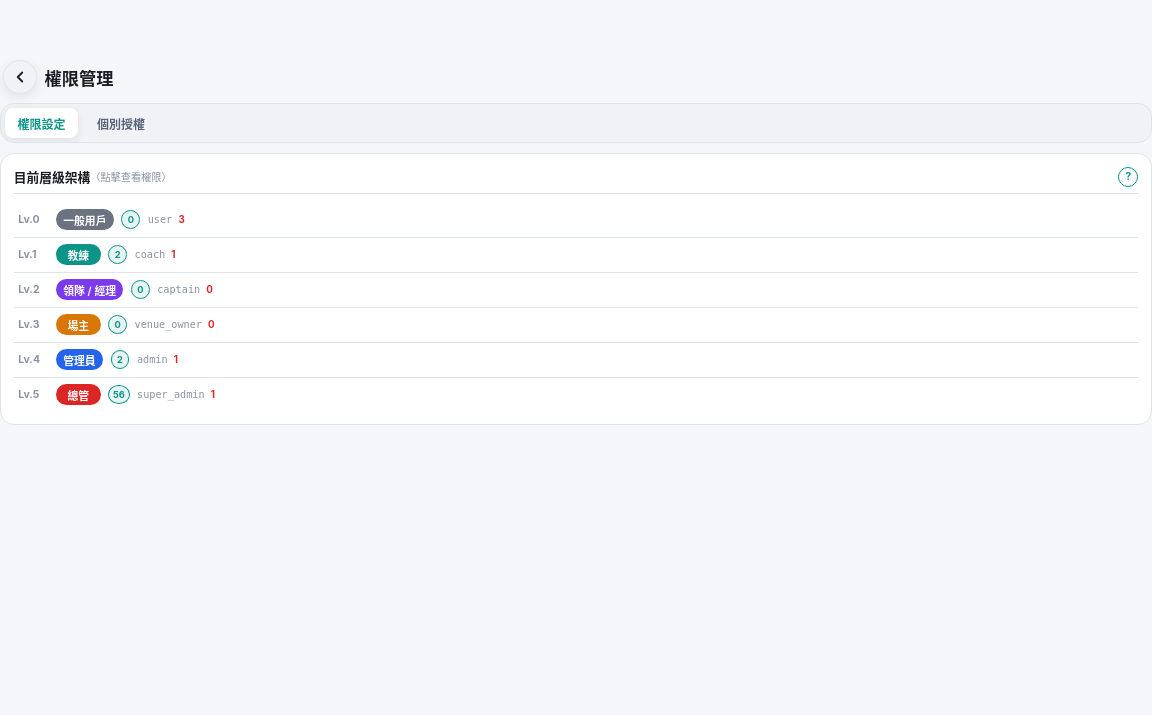
T-079a 權限管理頁 › S4 restore-defaults 第一參數深度等於載入原始 RolesData，不含樂觀 after
The width and height of the screenshot is (1152, 715).
Click the button "Lv.1 教練 2 coach 1" at {"x": 78, "y": 254}, box [14, 238, 1138, 272]
(page scrolled)
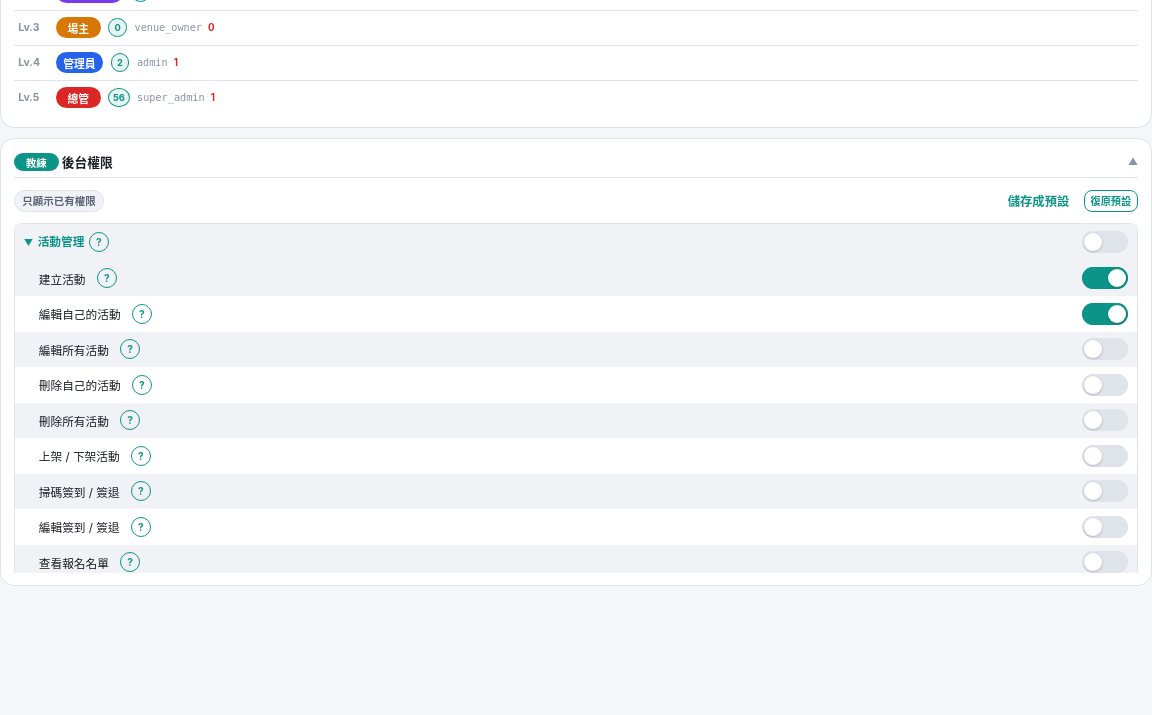
Click the button "復原預設" at {"x": 1111, "y": 201}, box [1084, 190, 1138, 212]
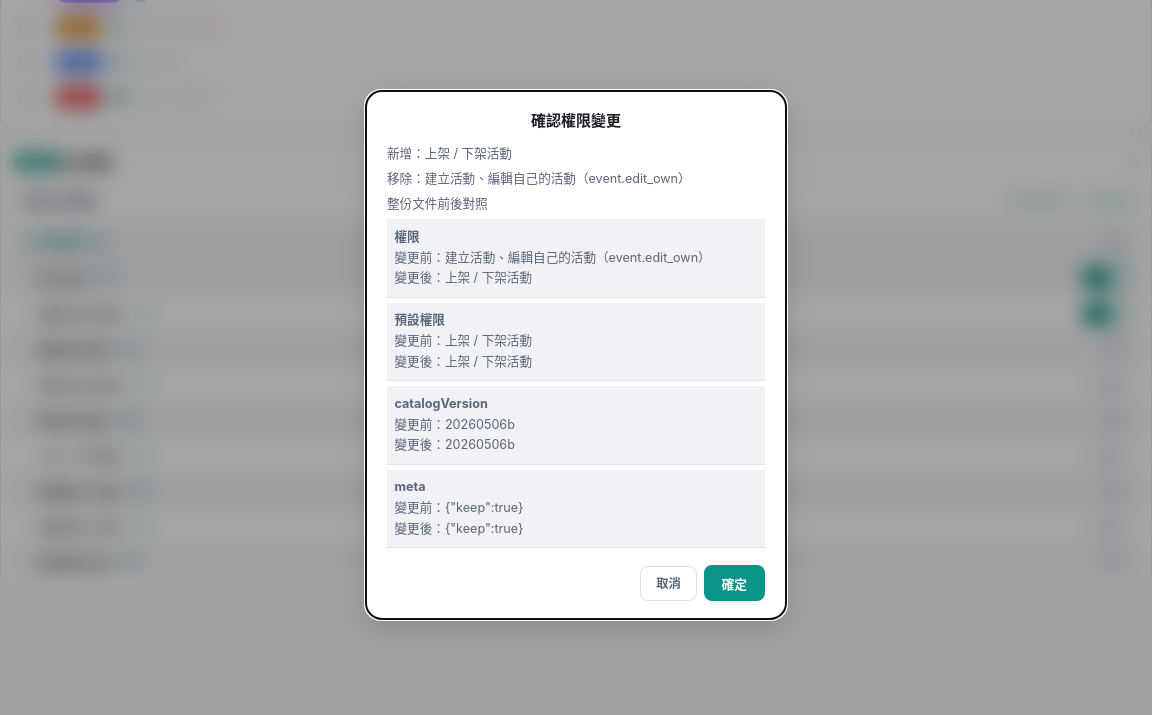
Click the button "確定" at {"x": 734, "y": 583}, box [704, 566, 765, 601]
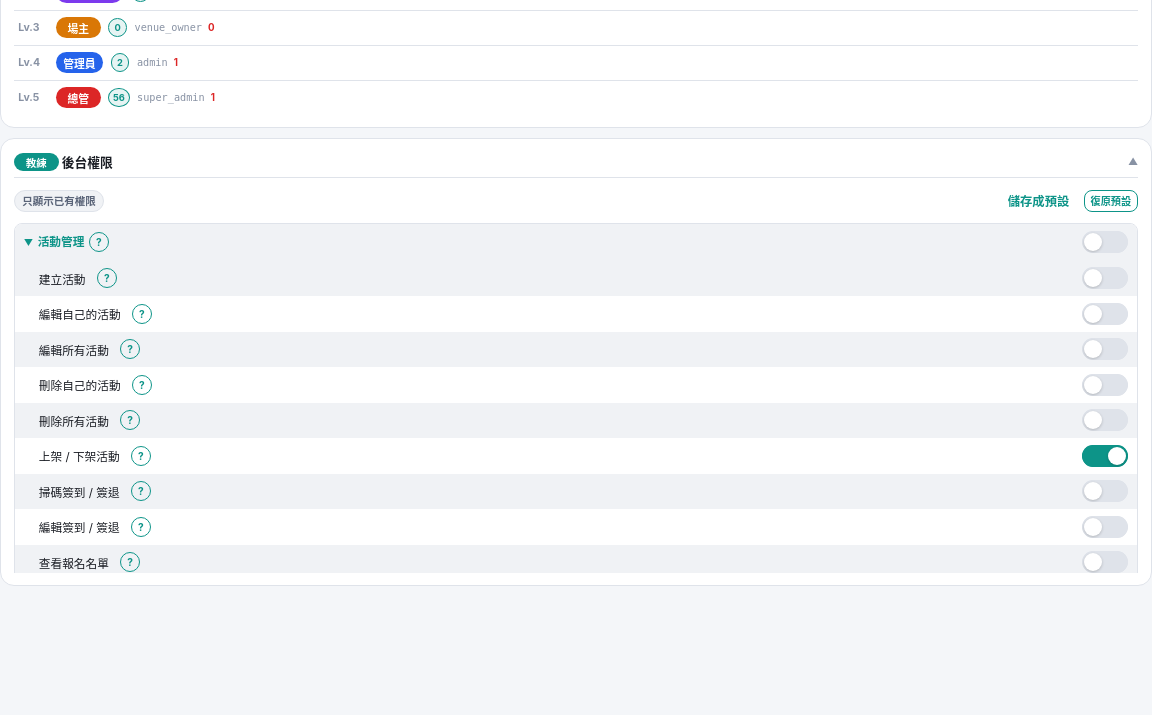
Expected: the dialog is gone
